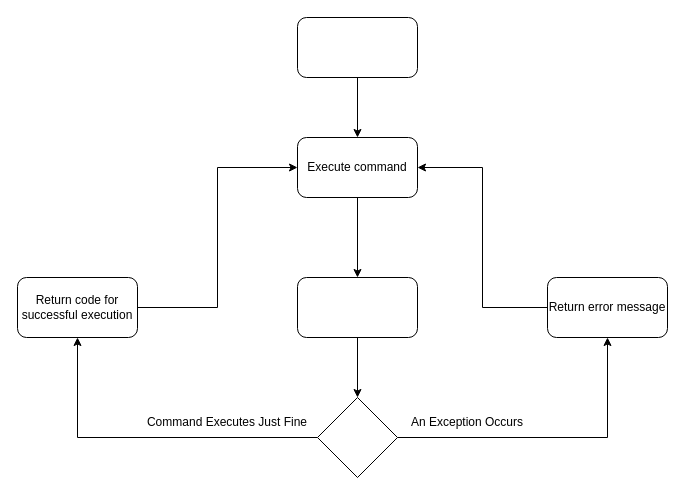
The diagram is 685 pixels wide and 495 high, and some of its shapes have lost their labels. Each missing label, with the centre of its shape:
Command does its thing: [357,307]
Connect to application: [357,47]
